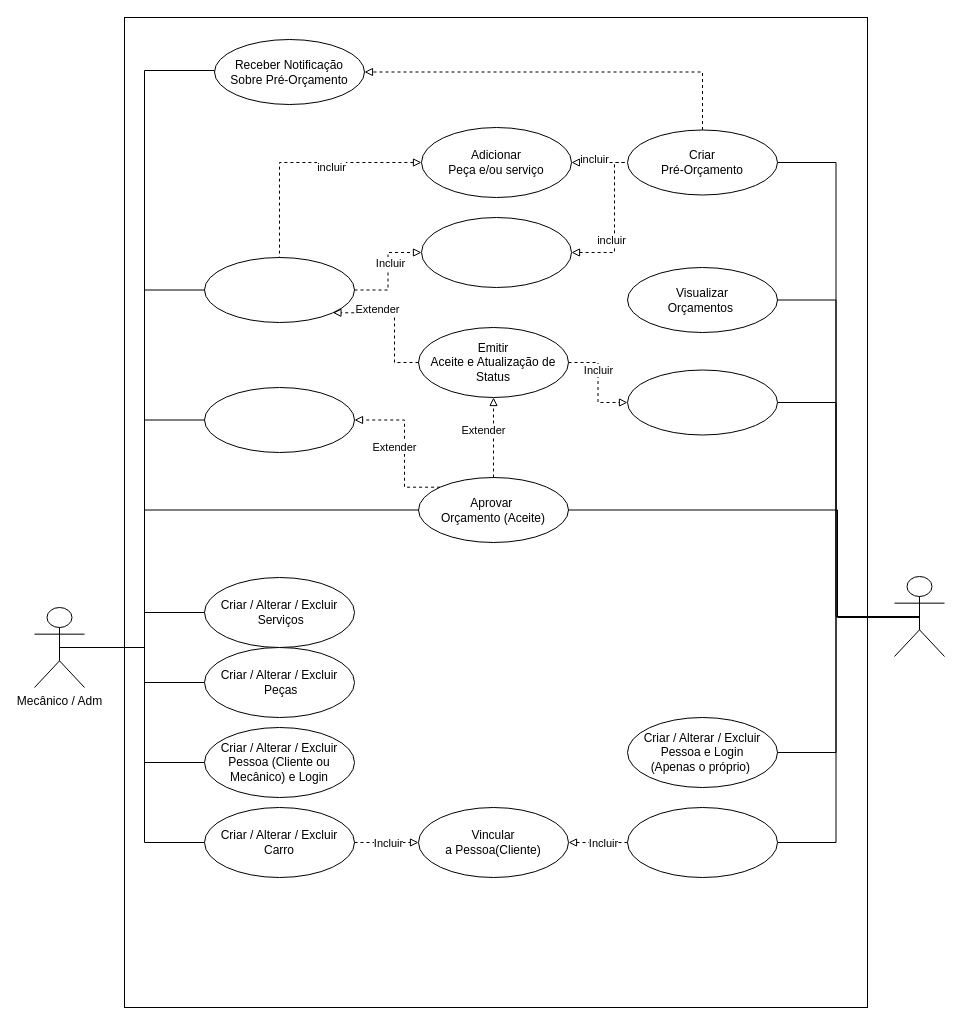
The diagram is 962 pixels wide and 1025 high, and some of its shapes have lost their labels. Each missing label, with the centre of its shape:
Cliente: [919,616]
Criar / Alterar / Excluir Carro (Apenas o próprio): [702,842]
Criar / Alterar / Excluir Orçamentos: [279,289]
Receber Notificação sobre aceite do cliente: [279,419]
Receber Notificação sobre Aceite e Status do Orçamento: [702,402]
Vincular a Cliente e Carro: [496,252]
